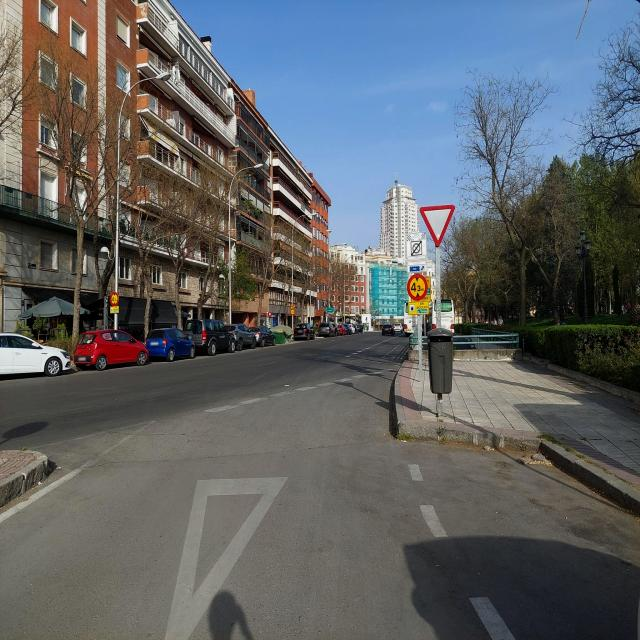car: (0, 331, 72, 380), (73, 328, 149, 371), (183, 317, 235, 355), (144, 327, 196, 361), (225, 323, 256, 350), (251, 325, 276, 346), (293, 323, 316, 341), (318, 322, 334, 337), (381, 323, 395, 336), (336, 324, 347, 335), (345, 323, 355, 334)
